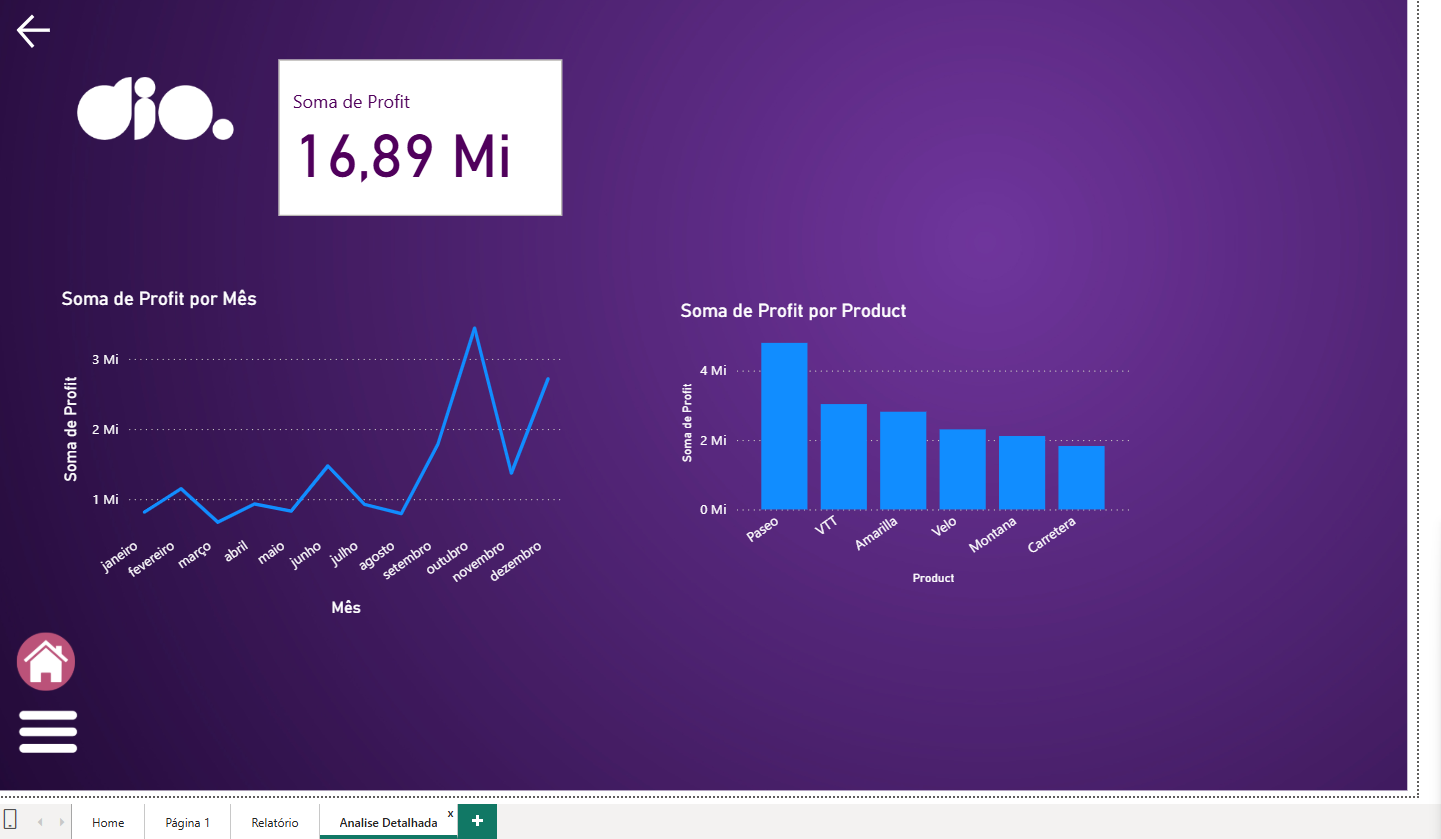

The page's visual inventory and layout, read from the dashboard file:
{"tool":"powerbi","page":{"name":"Analise Detalhada","canvas":[1280,720],"ordinal":3},"visuals":[{"type":"image","box":[0,0,1279.7,720],"z":0},{"type":"cardVisual","fields":{"Data":["Sum(financials.Profit)"]},"box":[254.9,55.4,264.9,150.7],"z":1000},{"type":"lineChart","fields":{"Y":["Sum(financials.Profit)"],"Category":["financials.Date.Variation.Hierarquia de datas.Mês"]},"box":[61,263.8,458.8,300.3],"z":2000},{"type":"lineClusteredColumnComboChart","fields":{"Y":["Sum(financials.Profit)"],"Category":["financials.Product"]},"box":[615.1,274.8,412.3,260.4],"z":3000},{"type":"image","box":[21.1,630.6,65.4,64.3],"z":4000},{"type":"image","box":[10,568.5,84.2,62.1],"z":5500},{"type":"actionButton","box":[21.1,15.5,73.1,39.9],"z":5501}]}

Visuals, with their boxes on the page's 1280x720 design canvas (x1, y1, x2, y2). These are canvas units, not pixel positions in the 1441x839 screenshot, which may show the page scaled, cropped or inside an application window:
image: [x1=0, y1=0, x2=1280, y2=720]
cardVisual - Sum(financials.Profit): [x1=255, y1=55, x2=520, y2=206]
lineChart - Sum(financials.Profit) x financials.Date.Variation.Hierarquia de datas.Mês: [x1=61, y1=264, x2=520, y2=564]
lineClusteredColumnComboChart - Sum(financials.Profit) x financials.Product: [x1=615, y1=275, x2=1027, y2=535]
image: [x1=21, y1=631, x2=86, y2=695]
image: [x1=10, y1=568, x2=94, y2=631]
actionButton: [x1=21, y1=16, x2=94, y2=55]
